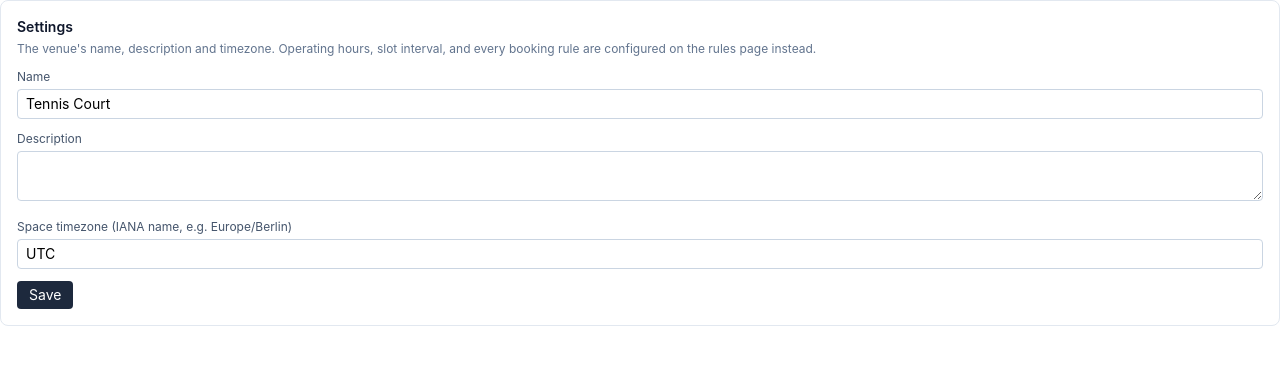
Test: SpaceSettingsPanel › shows the server conflict verbatim for an archived Space
Step 1. Click the button with test id "settings-save" → {"x": 45, "y": 295}, box x1=17 y1=281 x2=73 y2=309
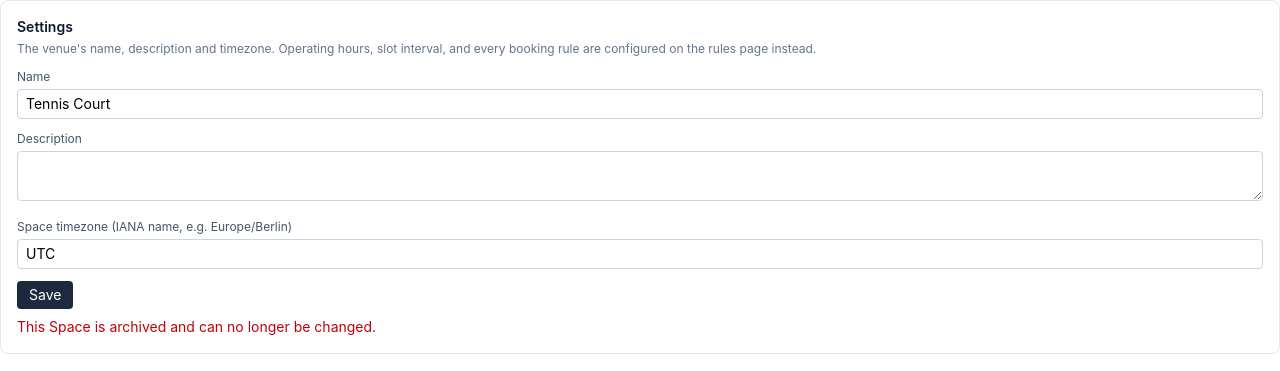
Result: the message with test id "settings-error" reads "This Space is archived and can no longer be changed." at x1=17 y1=318 x2=376 y2=335
